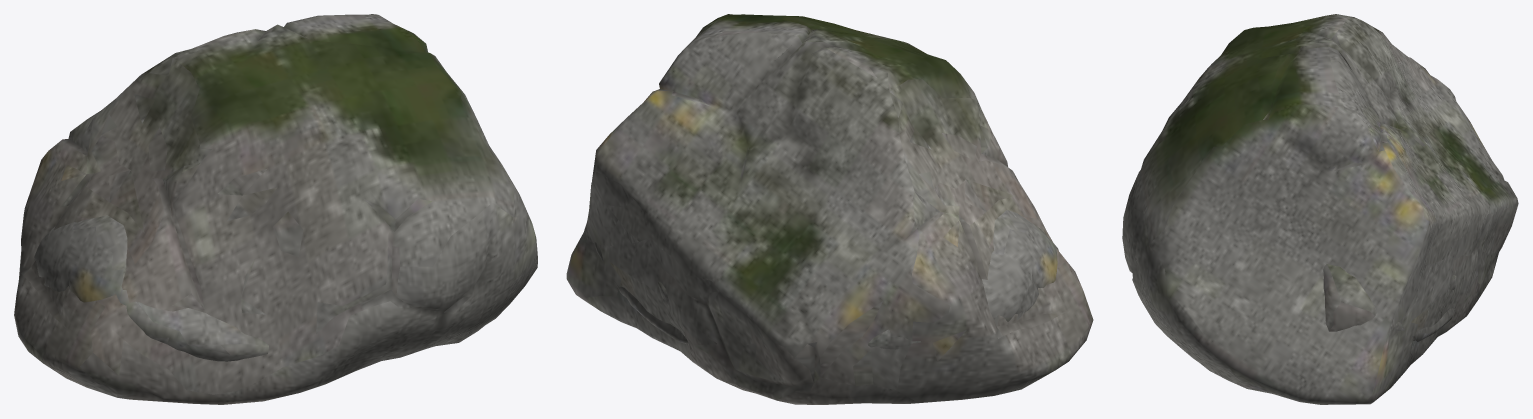
Rendered from rocks_a.glb.
3 views of the same model, side by side, from view 1: azimuth 30°, elevation 25°; view 2: azimuth 150°, elevation 25°; view 3: azimuth 270°, elevation 25° (orthographic). The views are drawn at different scales.
Parts seen in each view (by area): view 1: rock_1, rock_3; view 2: rock_1, rock_3; view 3: rock_1, rock_3.
Boxes of the visible parts, x1,y1,x2,y2 form: rock_1: (14,14,537,404); rock_3: (34,215,268,361); rock_1: (566,14,1093,404); rock_3: (594,210,1058,349); rock_1: (1122,14,1518,404); rock_3: (1323,264,1455,341).
Size of the model in its own units: 1.4 by 0.8537 by 1.1.
Materials: 1 (1 with a texture image).
